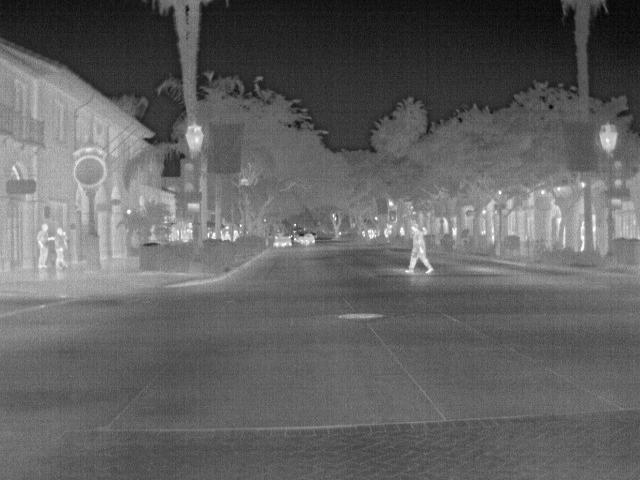car: (292, 228, 319, 246), (271, 232, 295, 250)
person: (404, 226, 434, 276), (34, 221, 55, 272), (52, 226, 71, 273), (221, 229, 235, 242)
